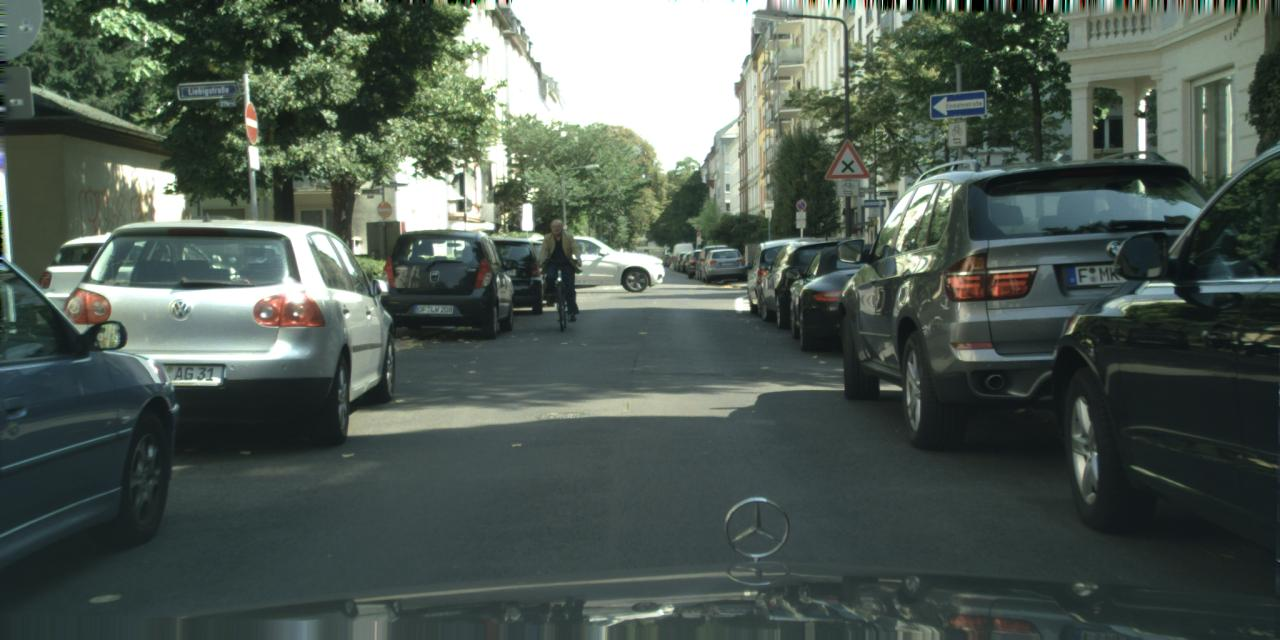ped: (539, 219, 577, 313)
